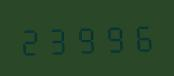nine: (72, 20, 98, 55), (99, 19, 125, 54)
six: (126, 18, 152, 53)
three: (45, 21, 71, 56)
two: (18, 22, 44, 57)
